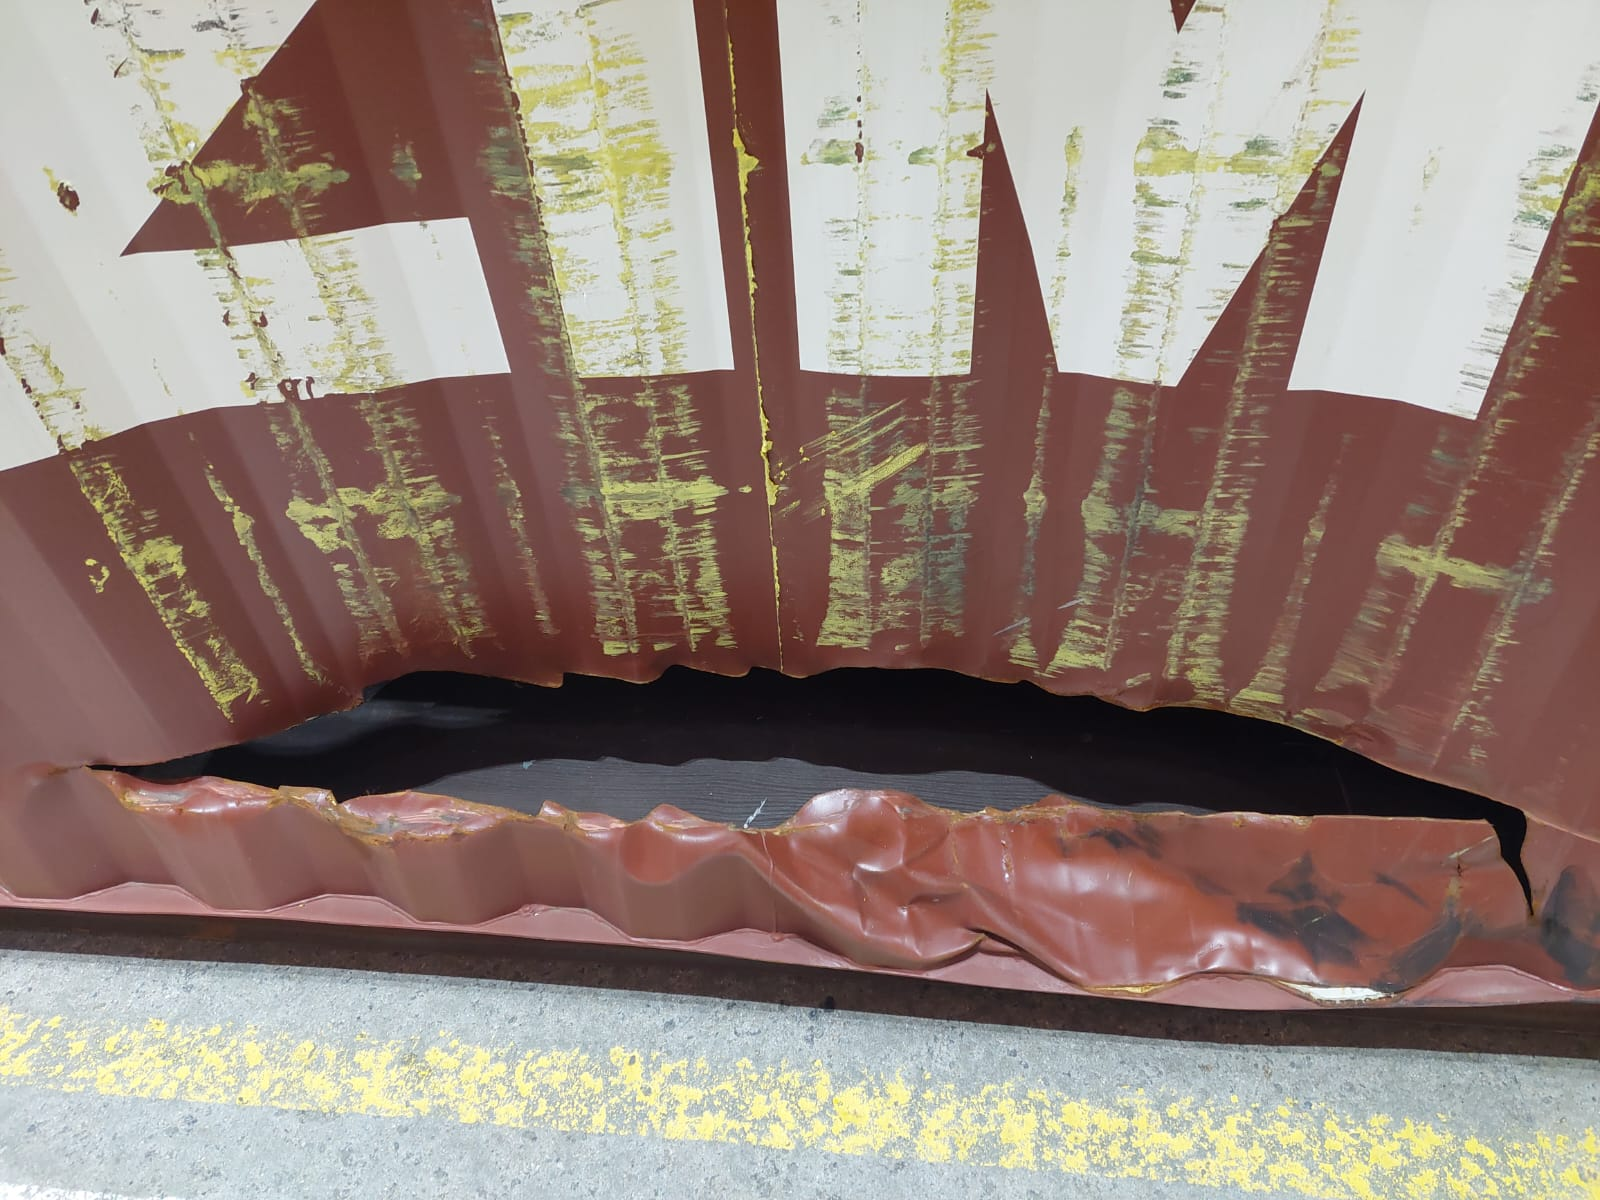severe: (53, 614, 1540, 879)
